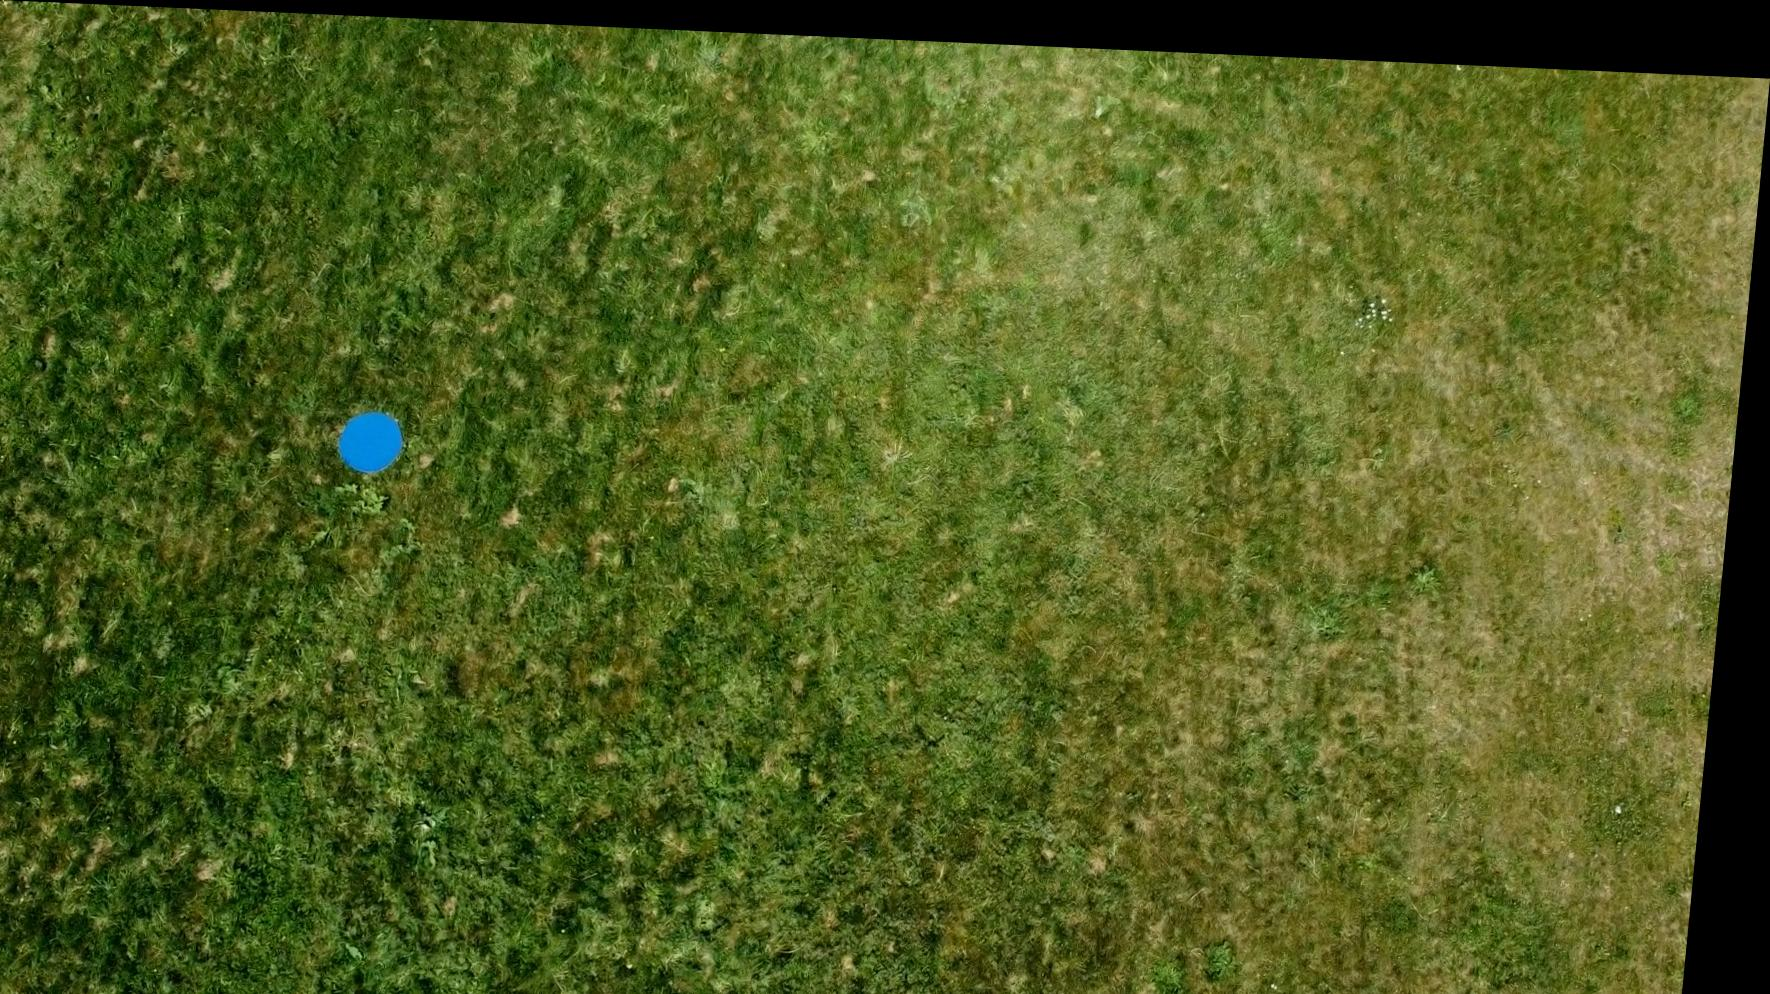Blue: (343, 406, 417, 471)
